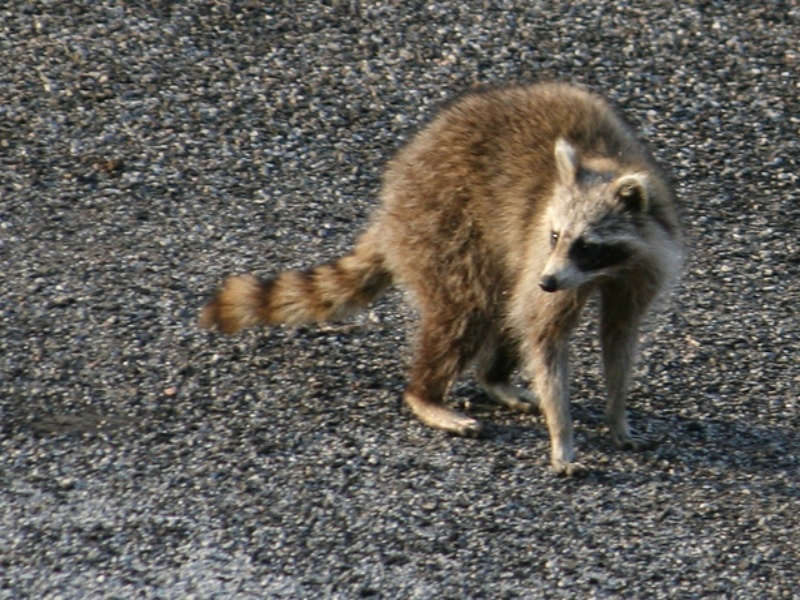raccoon: (203, 74, 681, 485)
